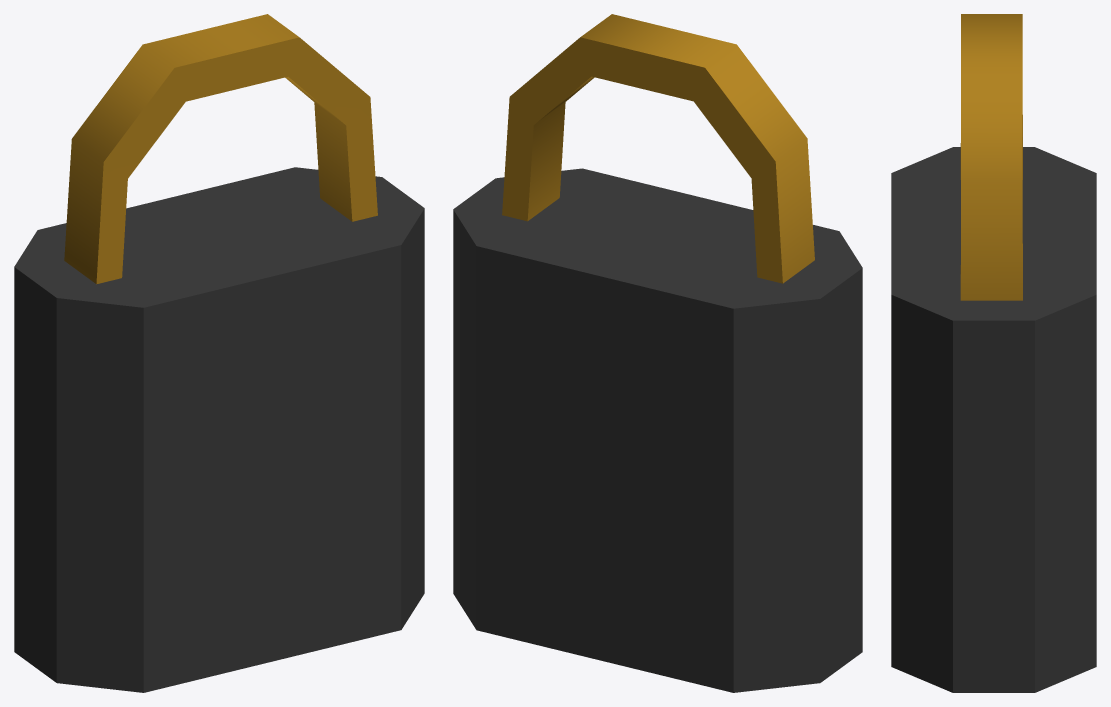
The model's file is Padlock.FBX.
3 renders of one model, left to right at view 1: azimuth 30°, elevation 25°; view 2: azimuth 150°, elevation 25°; view 3: azimuth 270°, elevation 25°, orthographic. The views are drawn at different scales.
Parts seen in each view (by area): view 1: PadLock Body, Lock; view 2: PadLock Body, Lock; view 3: PadLock Body, Lock.
Part boxes in pixels (left/top/right/bottom): PadLock Body: left=14, top=167, right=424, bottom=692; Lock: left=64, top=14, right=377, bottom=284; PadLock Body: left=453, top=168, right=862, bottom=692; Lock: left=502, top=14, right=814, bottom=283; PadLock Body: left=891, top=147, right=1096, bottom=692; Lock: left=960, top=14, right=1022, bottom=300.
Size of the model in its own units: 0.2 by 0.3024 by 0.1.
